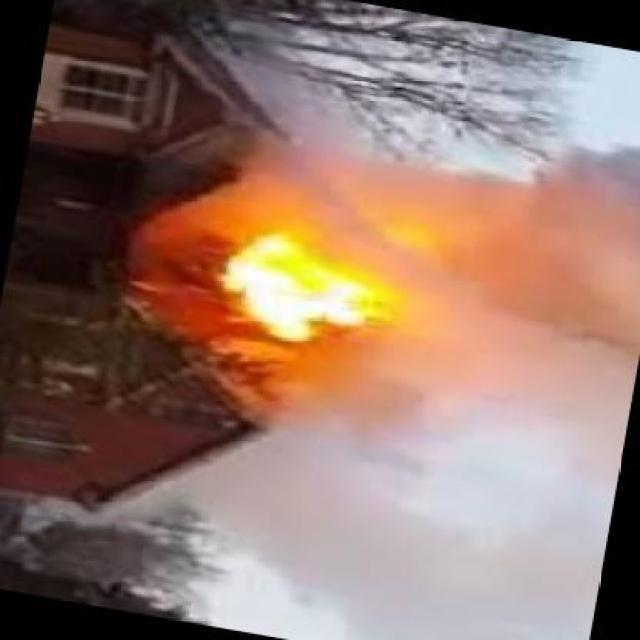Fire: (211, 228, 377, 348)
Smoke: (382, 146, 640, 450), (198, 432, 572, 634), (228, 132, 382, 220)
